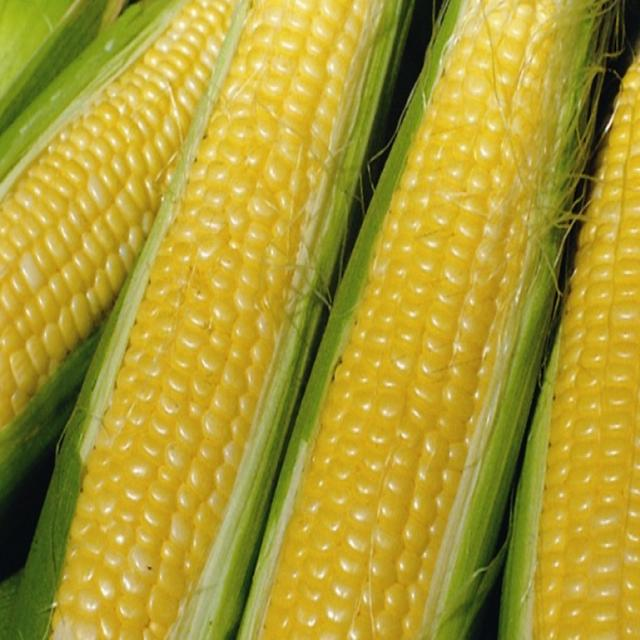corn: (6, 0, 422, 640), (246, 0, 620, 640)
